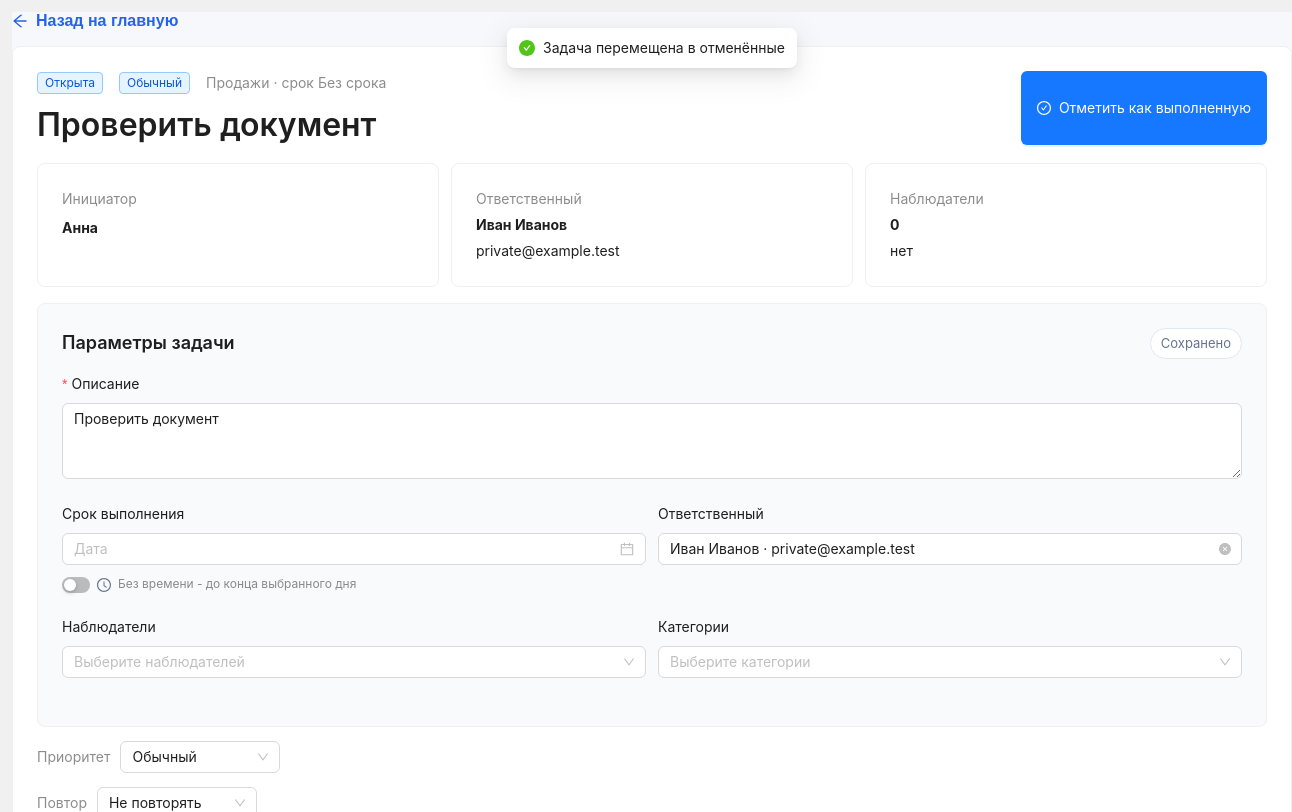
Test: task completion is in the heading, sends review and history follows comments
Expected: the element named "Отметить как выполненную" is shown, [37,71,1267,145]
Step 1. Click the button "Отметить как выполненную" → click(1144, 108), box [1021,71,1267,145]
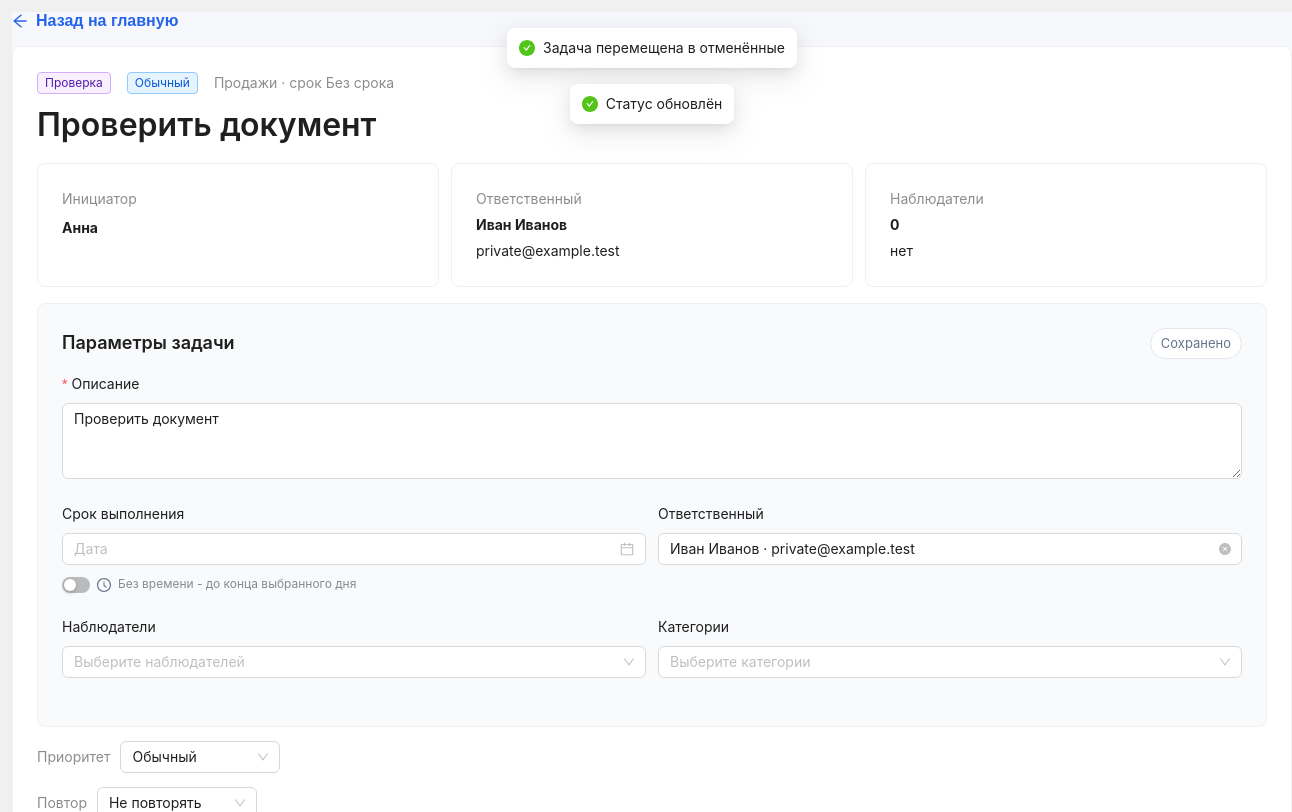
Expected: the button "Отметить как выполненную" is gone
